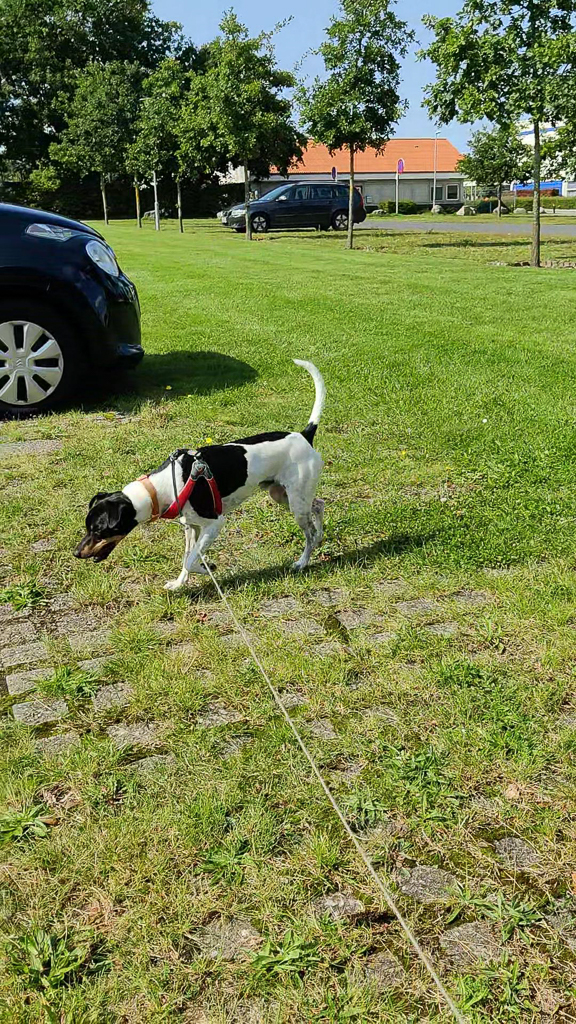Dog: (59, 342, 345, 615)
